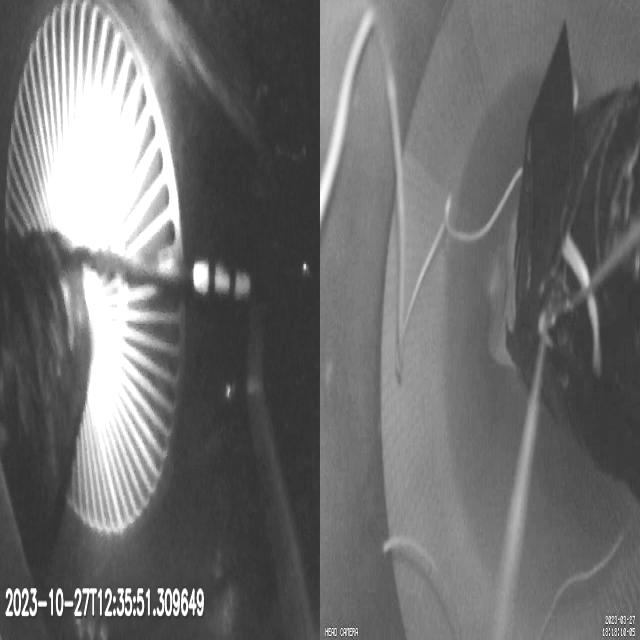white-dots: (191, 258, 250, 304)
